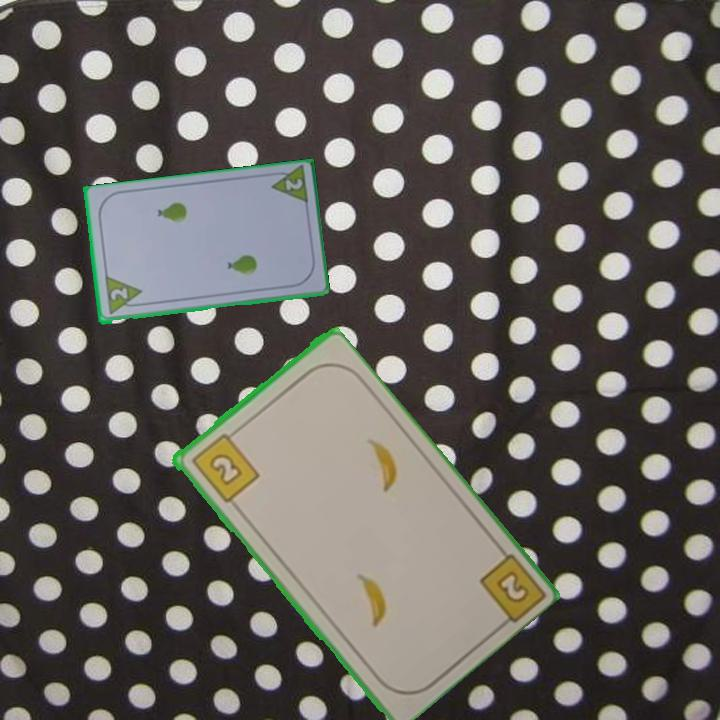2b: (187, 428, 262, 506), (492, 566, 532, 607)
2p: (101, 274, 145, 318), (281, 175, 305, 194)
